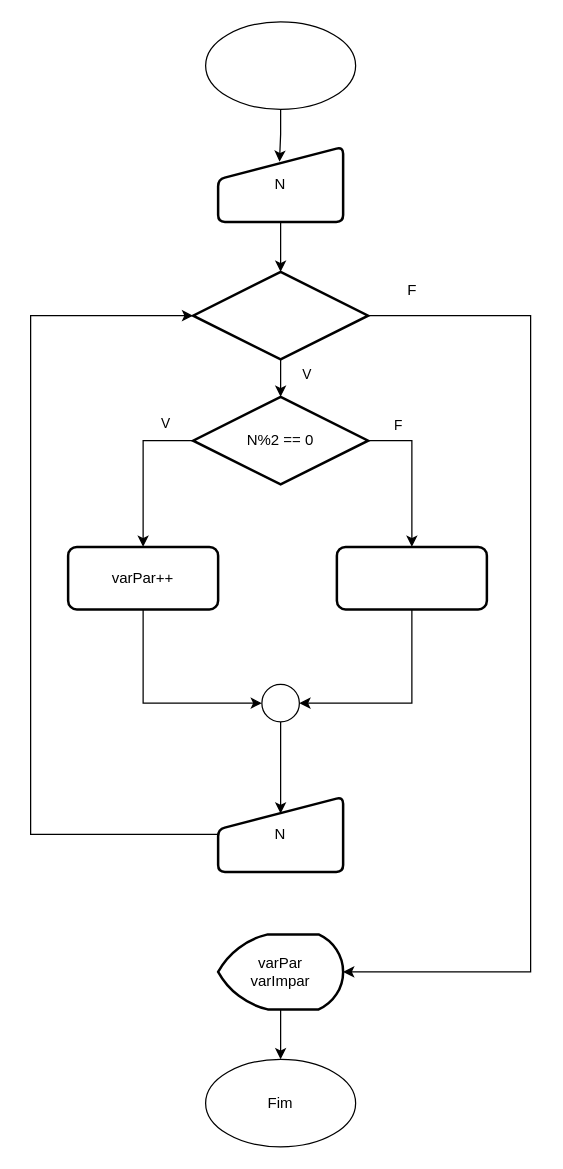
This 563x1169 diagram has some shape labels left out. The shapes that lost their labels are listed below. From the top down, each one's centre as x and y in pixels, then its label:
At (x=280, y=65): "Inicio".
At (x=280, y=315): "N != 0".
At (x=411, y=577): "varImpar++".
